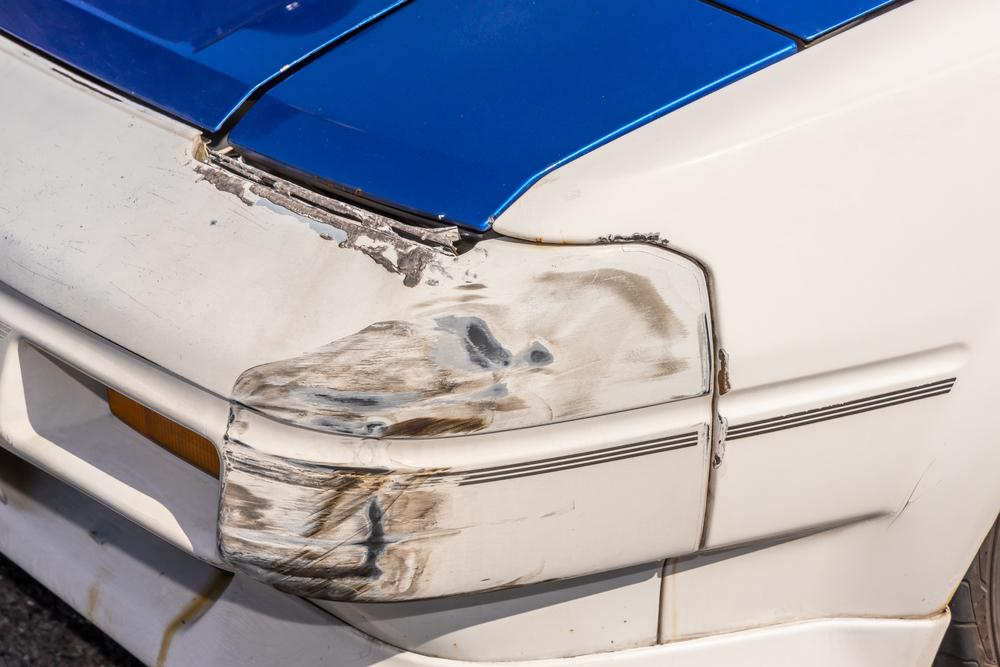scratch: (184, 150, 699, 605)
